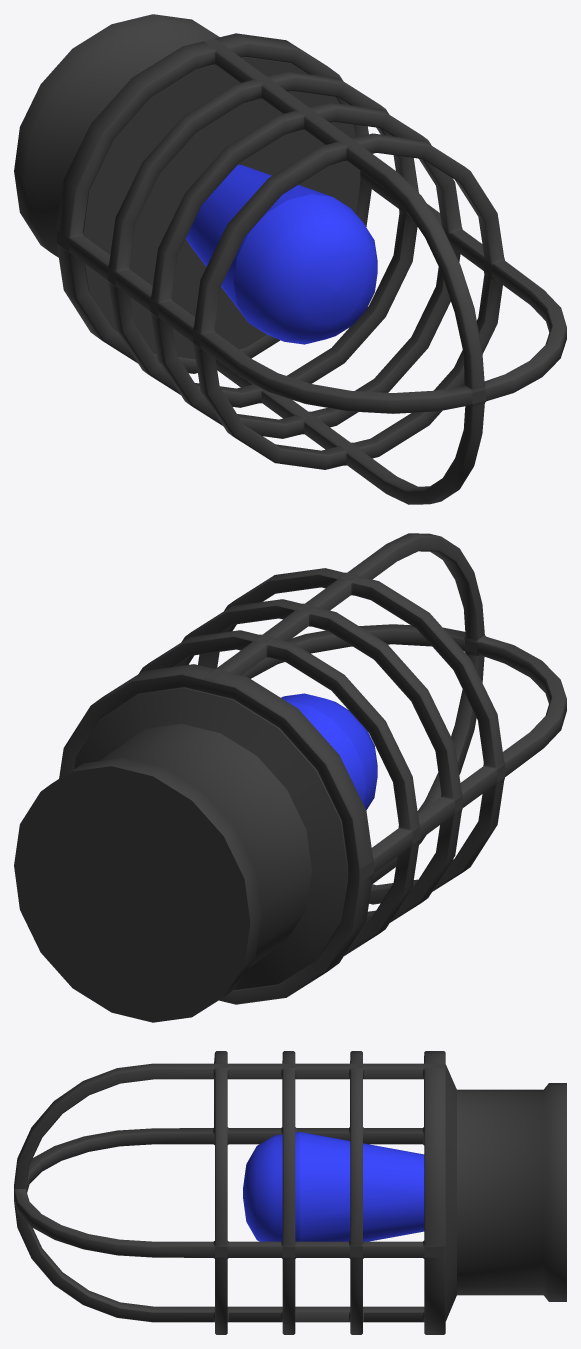
File: ExitLamp.fbx
3 renders of one model, top to bottom at view 1: azimuth 30°, elevation 25°; view 2: azimuth 150°, elevation 25°; view 3: azimuth 270°, elevation 25°, orthographic. The views are drawn at different scales.
Parts seen in each view (by area): view 1: LamparaSalida_low; view 2: LamparaSalida_low; view 3: LamparaSalida_low.
Boxes of the visible parts, <box> form: LamparaSalida_low: <box>14,14,566,504</box>; LamparaSalida_low: <box>14,533,566,1022</box>; LamparaSalida_low: <box>14,1051,566,1334</box>.
Bounding box in the file's own units: 13.6 × 13.61 × 26.82.
